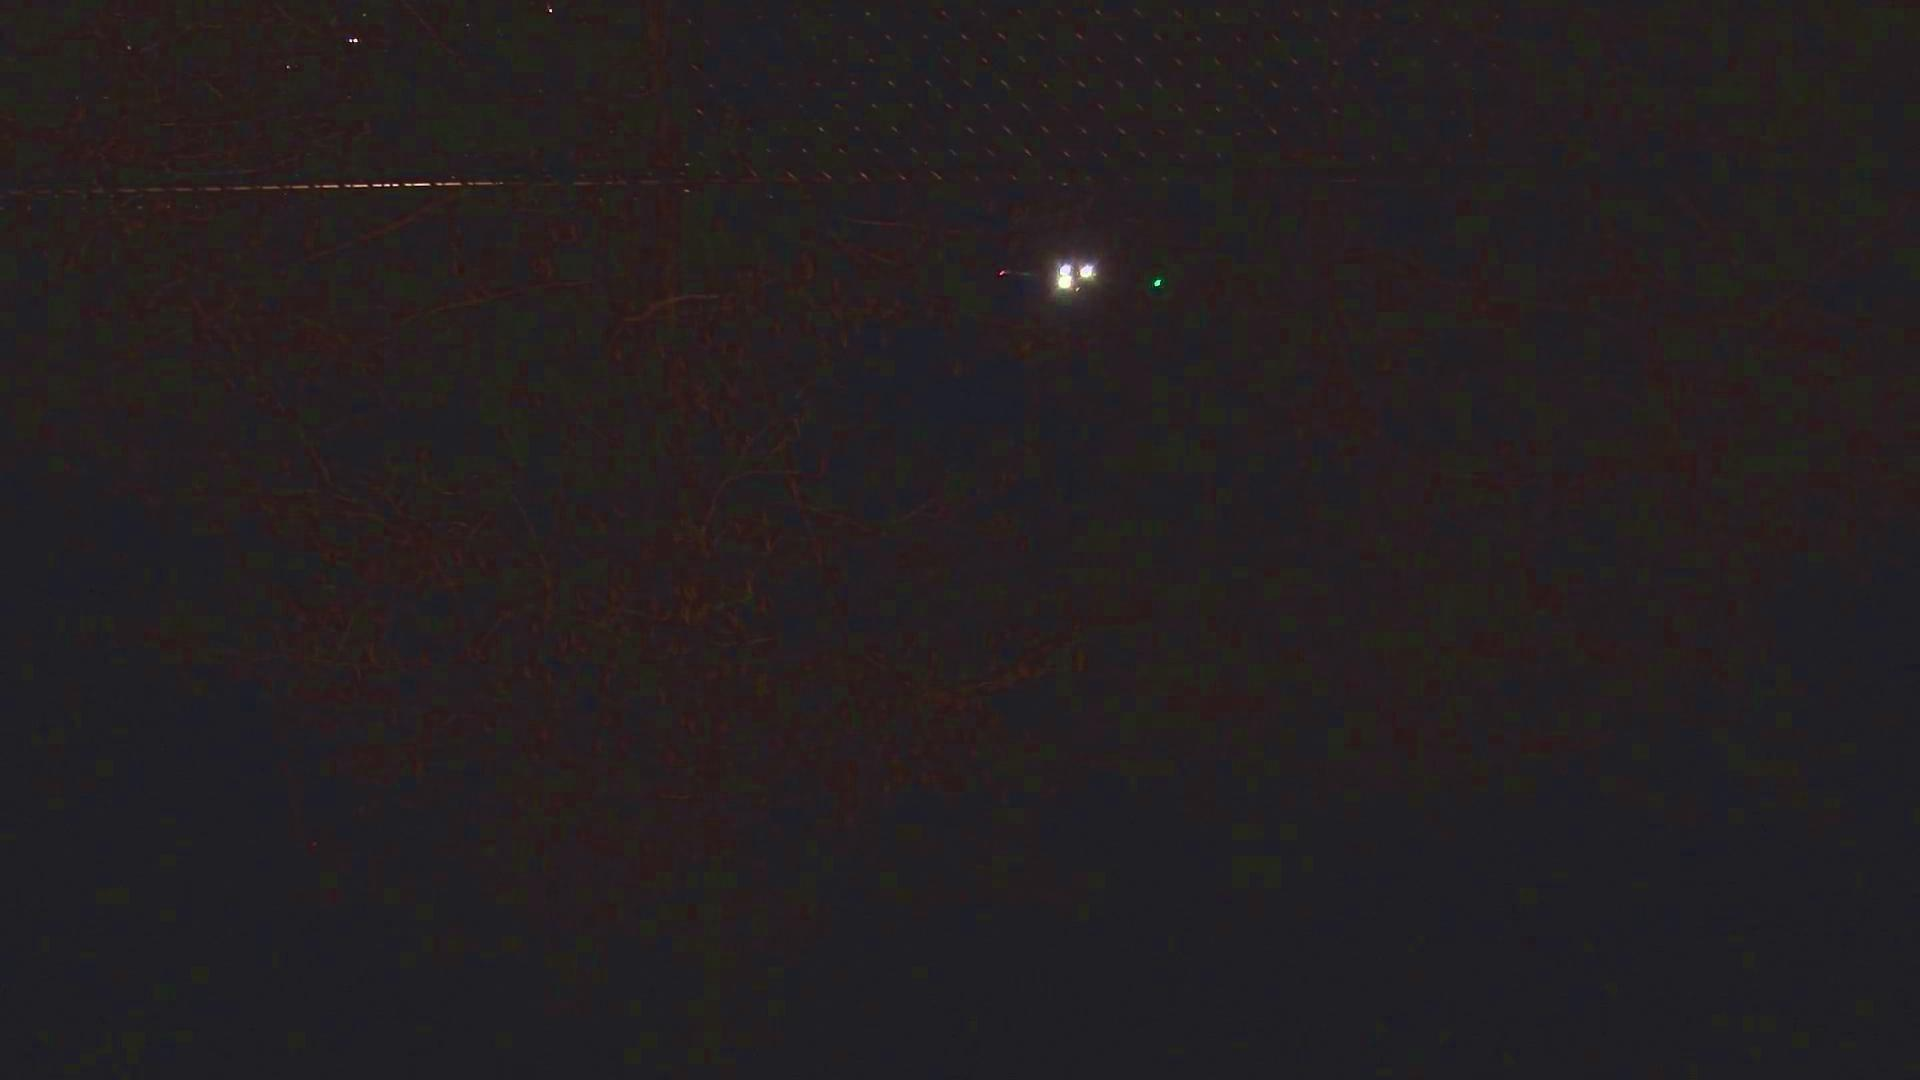Plane: (967, 247, 1170, 305)
